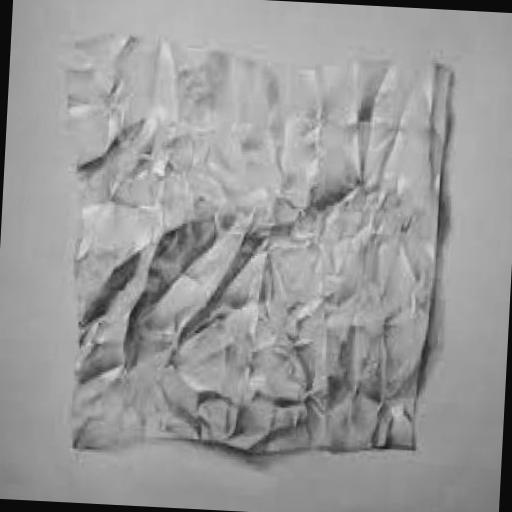paper: (44, 31, 450, 462)
